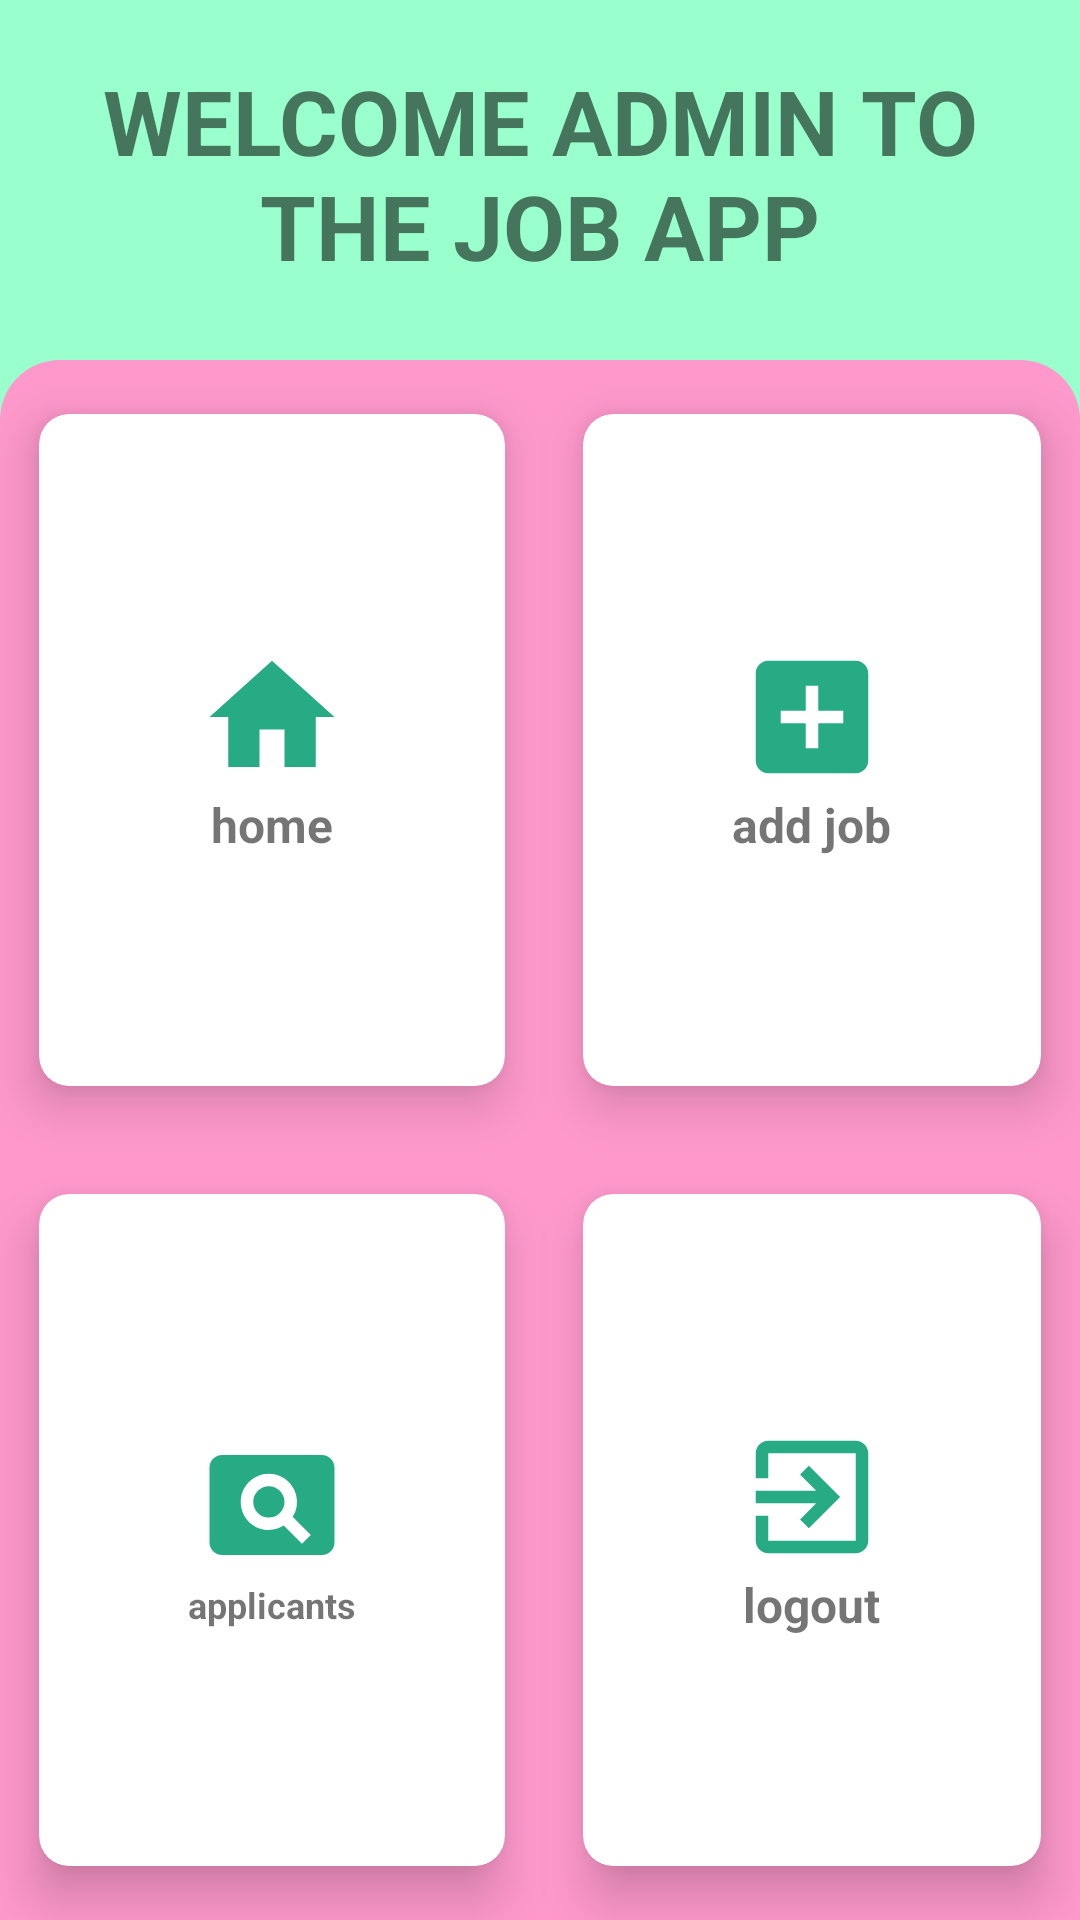

Screen size 1080 × 1920. Icon name, then its box in pixels as (x1, y1, x2, y2):
add box: (755, 660, 869, 774)
exit to app: (755, 1440, 869, 1554)
pageview: (209, 1455, 335, 1555)
